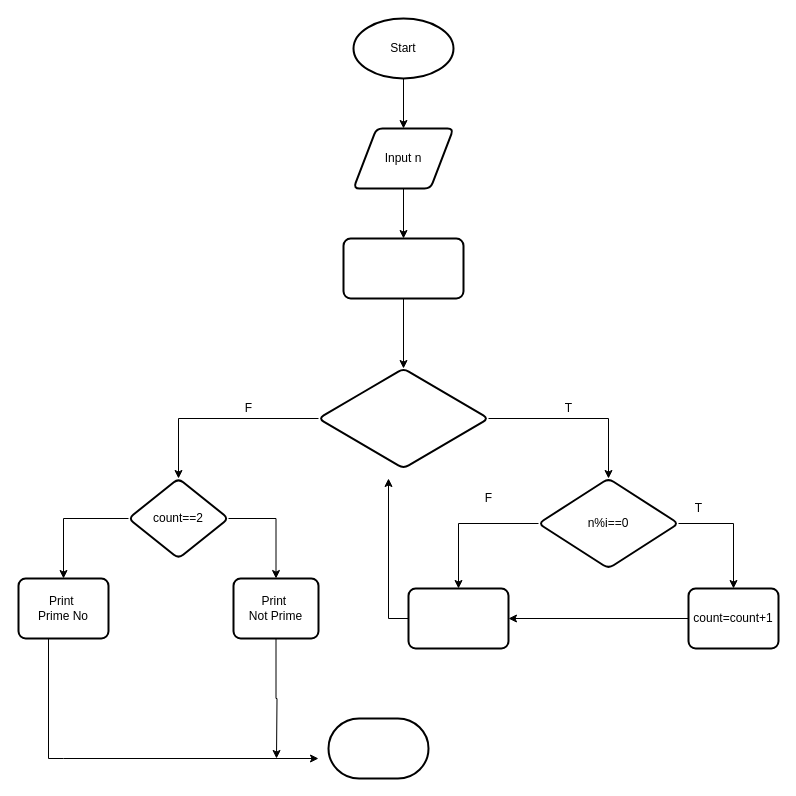
Some shapes in this 796 by 796 pixel diagram are drawn without their labels. The shapes that lost their labels are listed below. From the top down, each one's box as (x1, y1, x2, y2) in pixels, then its label:
(342, 237, 464, 299): i=1 count=0
(317, 367, 489, 469): i<=n
(407, 587, 509, 649): i=i+1
(327, 717, 429, 779): Stop
